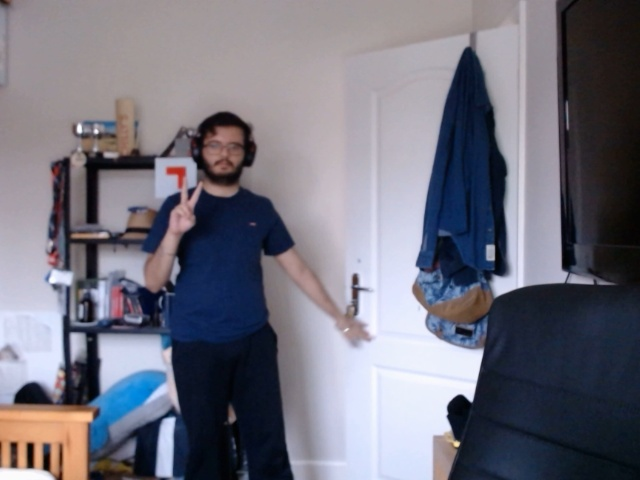Peace: (160, 170, 208, 245)
